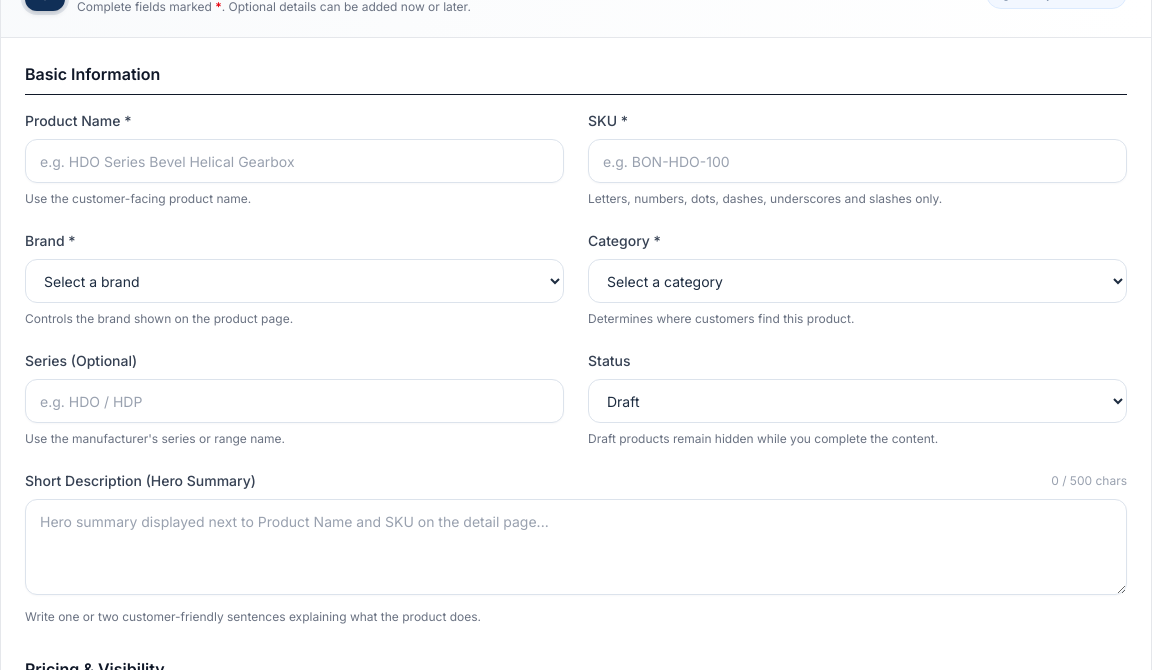
it: ProductForm › rejects invalid pricing and non-http canonical URLs
Type "Industrial Gearbox" into the field labelled "Product Name *" at x=294, y=161, box left=25, top=139, right=564, bottom=183
Type "GBX-100" into the field labelled "SKU *" at x=858, y=161, box left=588, top=139, right=1127, bottom=183
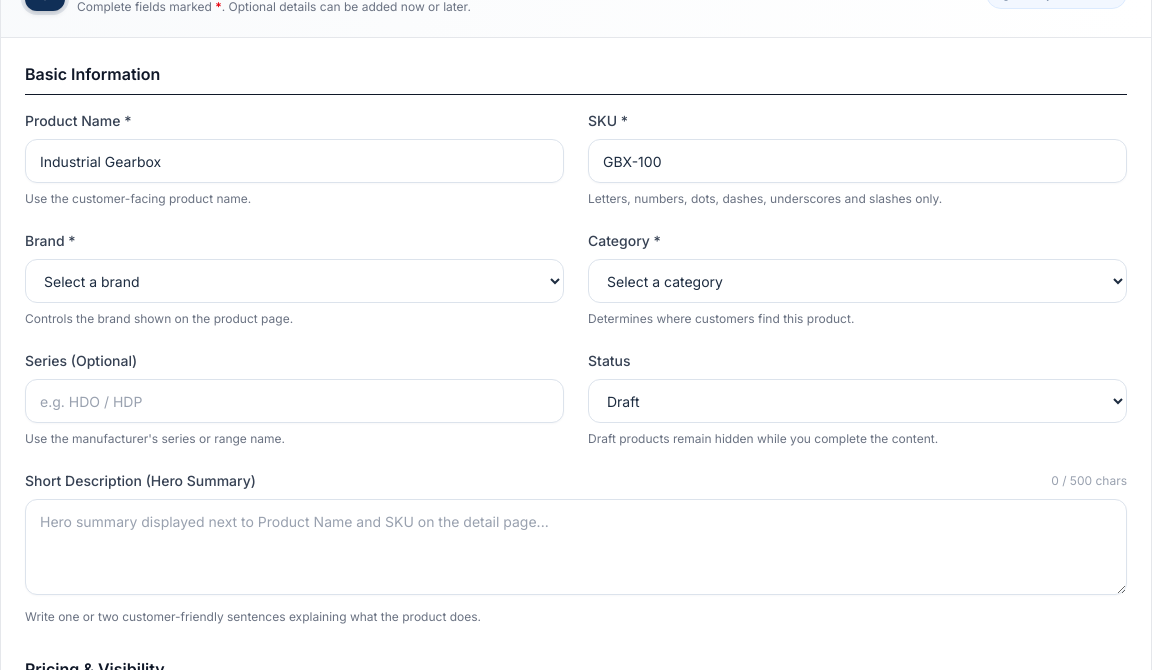
Select "Bonfiglioli" in the dropdown labelled "Brand *" at x=294, y=281, box left=25, top=259, right=564, bottom=303
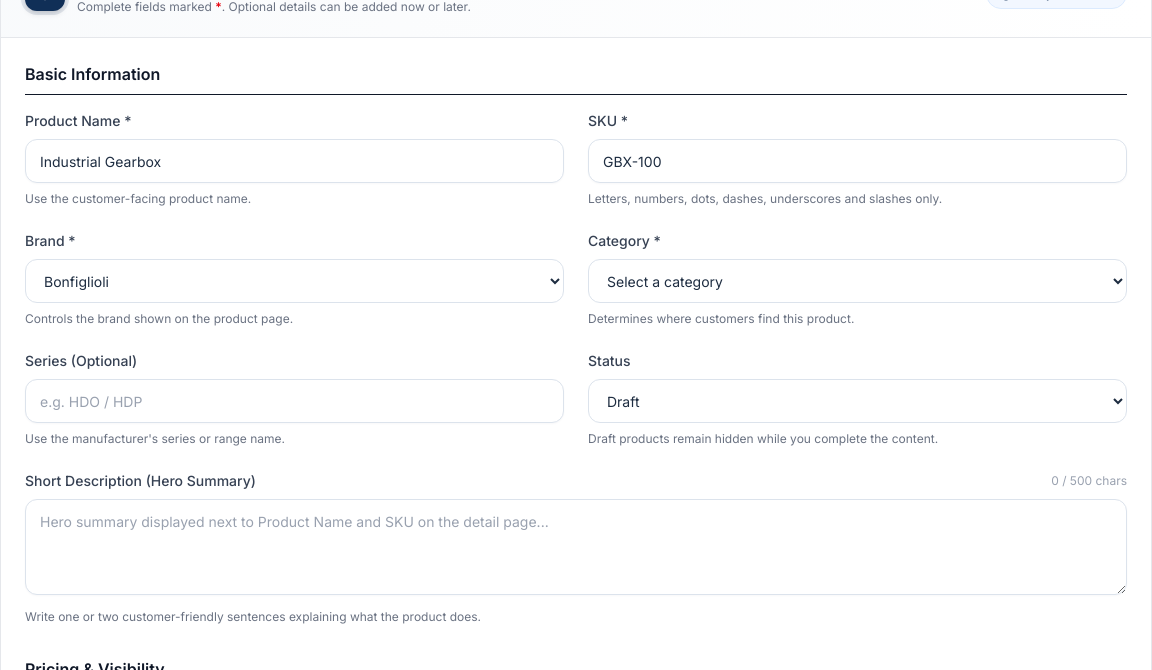
Select "Gearboxes" in the dropdown labelled "Category *" at x=858, y=281, box left=588, top=259, right=1127, bottom=303
(page scrolled)
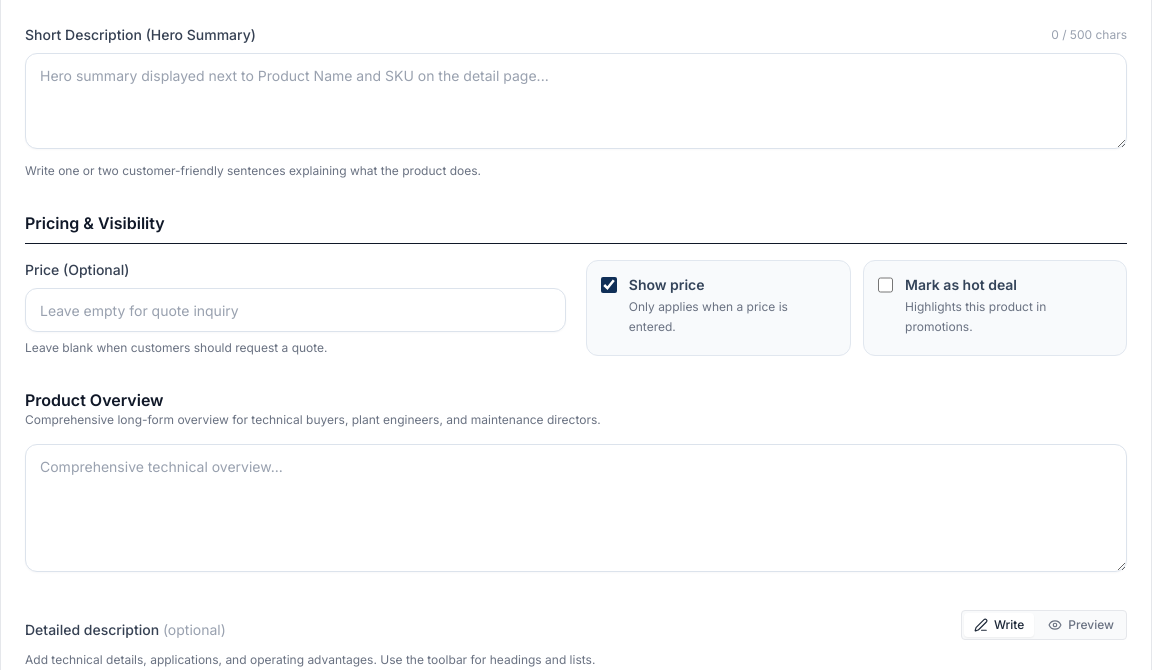
Type "-1" into the number field labelled "Price (Optional)" at x=296, y=310, box left=25, top=288, right=566, bottom=332
(page scrolled)
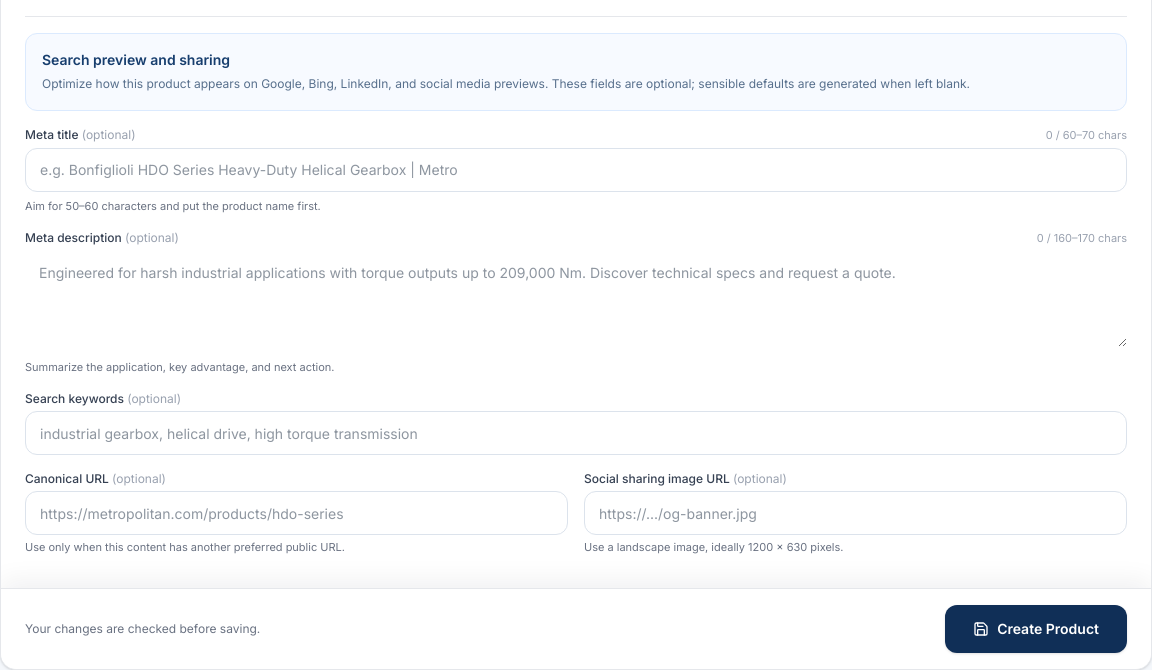
Type "ftp://example.com/product" into the field labelled "Canonical URL (optional)" at x=296, y=513, box left=25, top=491, right=568, bottom=535
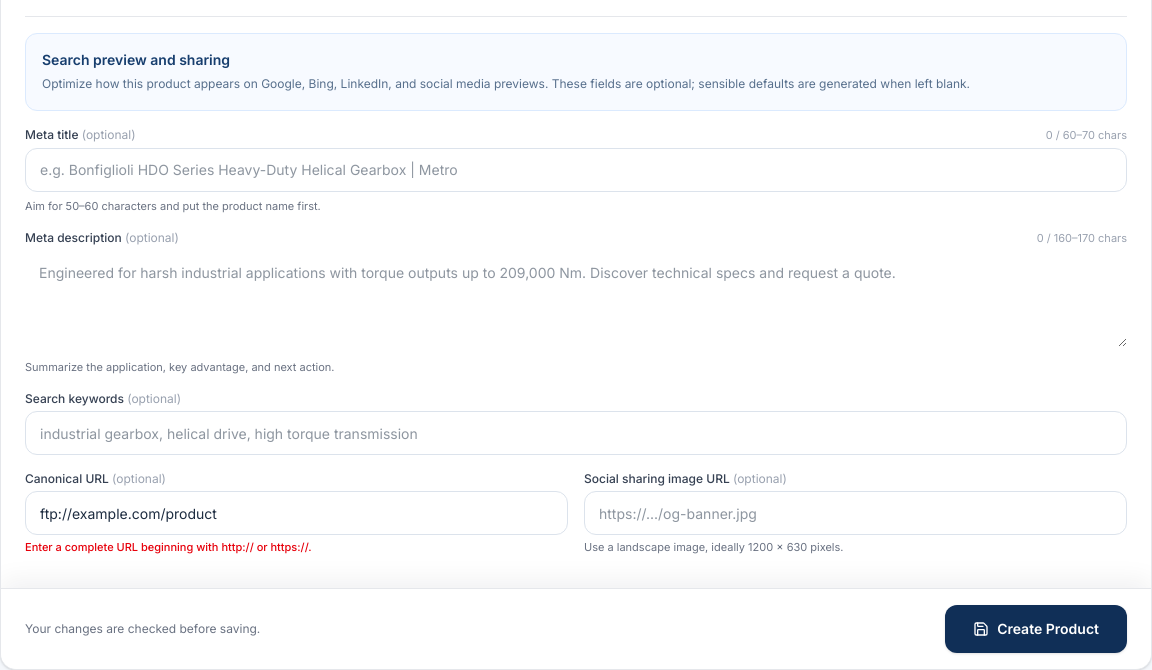
Click the button "Create Product" at x=1036, y=628, box left=945, top=604, right=1127, bottom=652
(page scrolled)
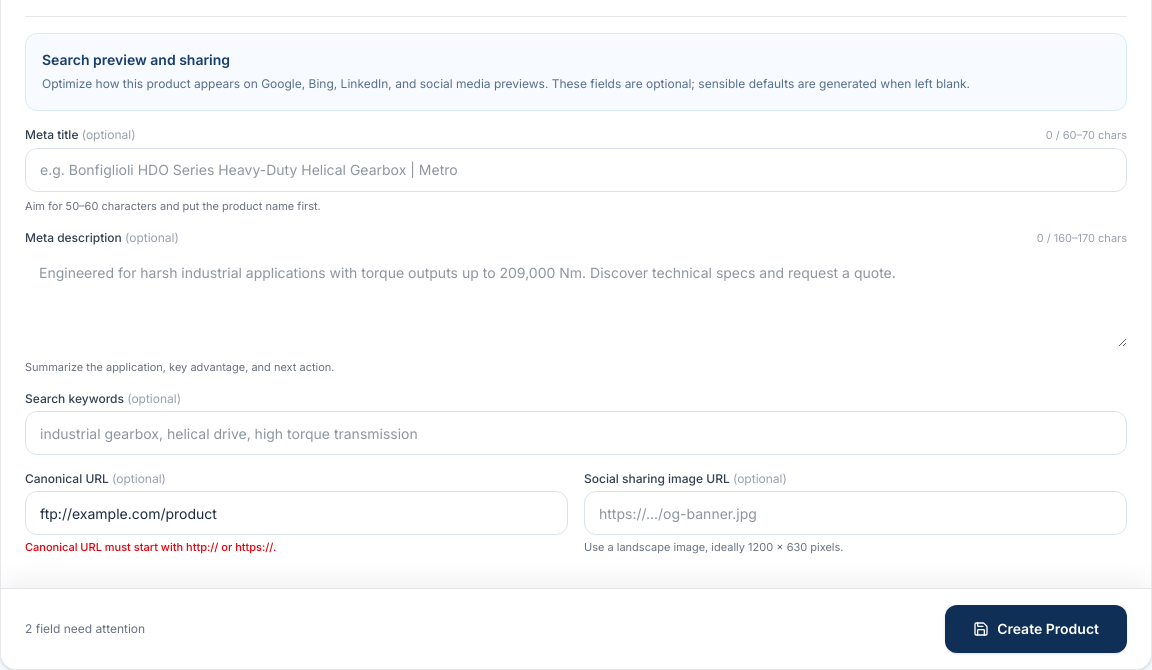
Check: the text "Canonical URL must start with http:// or https://." is shown, box left=25, top=540, right=276, bottom=554
